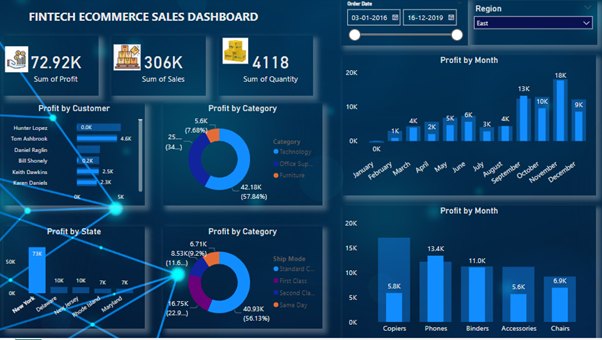

The dashboard page shown, as its layout file describes it:
{"tool":"powerbi","page":{"name":"Page 1","canvas":[1280,720],"ordinal":0},"visuals":[{"type":"textbox","box":[39.7,17,535.7,49.6],"z":0},{"type":"columnChart","title":" Profit by Month","fields":{"Category":["Orders.Order Date.Variation.Date Hierarchy.Year","Orders.Order Date.Variation.Date Hierarchy.Quarter","Orders.Order Date.Variation.Date Hierarchy.Month","Orders.Order Date.Variation.Date Hierarchy.Day"],"Y":["Sum(Orders.Profit)"]},"box":[728.5,120.5,535.7,297.6],"z":1000},{"type":"columnChart","title":" Profit by Month","fields":{"Y":["Sum(Orders.Profit)"],"Category":["Orders.Sub-Category"]},"box":[728.5,439.4,535.7,280.6],"z":2000},{"type":"card","fields":{"Values":["Sum(Orders.Profit)"]},"box":[11.6,80,201.3,127.7],"z":3000},{"type":"card","fields":{"Values":["Sum(Orders.Sales)"]},"box":[240,80,200,127.7],"z":4000},{"type":"card","fields":{"Values":["Sum(Orders.Quantity)"]},"box":[465.8,80,200,127.7],"z":5000},{"type":"slicer","fields":{"Values":["Orders.Order Date"]},"box":[725.5,0,268,99.8],"z":6000},{"type":"slicer","fields":{"Values":["Orders.Region"]},"box":[996.3,5.7,270.8,94.1],"z":7000},{"type":"donutChart","title":"Profit by Category","fields":{"Y":["Sum(Orders.Profit)"],"Category":["Orders.Category"]},"box":[348.7,222.5,337.3,216.9],"z":8000},{"type":"donutChart","title":"Profit by Category","fields":{"Y":["Sum(Orders.Profit)"],"Category":["Orders.Ship Mode"]},"box":[348.7,483.3,337.3,216.9],"z":9000},{"type":"clusteredBarChart","title":" Profit by Customer","fields":{"Y":["Sum(Orders.Profit)"],"Category":["Orders.Customer Name"]},"box":[11.3,222.5,299.1,216.9],"z":10000},{"type":"columnChart","title":"Profit by State","fields":{"Y":["Sum(Orders.Profit)"],"Category":["Orders.State"]},"box":[11.3,483.3,299.1,216.9],"z":11000},{"type":"image","box":[10.3,89,59.4,81.3],"z":12000},{"type":"image","box":[240,89,67.1,72.3],"z":13000},{"type":"image","box":[455.5,80,92.9,64.5],"z":14000}]}

Visuals, with their boxes in screenshot pixels (x1, y1, x2, y2), scaled from the page's 1280x720 canvas onto the 602x340 screenshot:
textbox: x1=19, y1=8, x2=271, y2=31
" Profit by Month" columnChart: x1=343, y1=57, x2=595, y2=197
" Profit by Month" columnChart: x1=343, y1=207, x2=595, y2=339
card - Sum(Orders.Profit): x1=5, y1=38, x2=100, y2=98
card - Sum(Orders.Sales): x1=113, y1=38, x2=207, y2=98
card - Sum(Orders.Quantity): x1=219, y1=38, x2=313, y2=98
slicer - Orders.Order Date: x1=341, y1=0, x2=467, y2=47
slicer - Orders.Region: x1=469, y1=3, x2=596, y2=47
"Profit by Category" donutChart: x1=164, y1=105, x2=323, y2=207
"Profit by Category" donutChart: x1=164, y1=228, x2=323, y2=331
" Profit by Customer" clusteredBarChart: x1=5, y1=105, x2=146, y2=207
"Profit by State" columnChart: x1=5, y1=228, x2=146, y2=331
image: x1=5, y1=42, x2=33, y2=80
image: x1=113, y1=42, x2=144, y2=76
image: x1=214, y1=38, x2=258, y2=68
